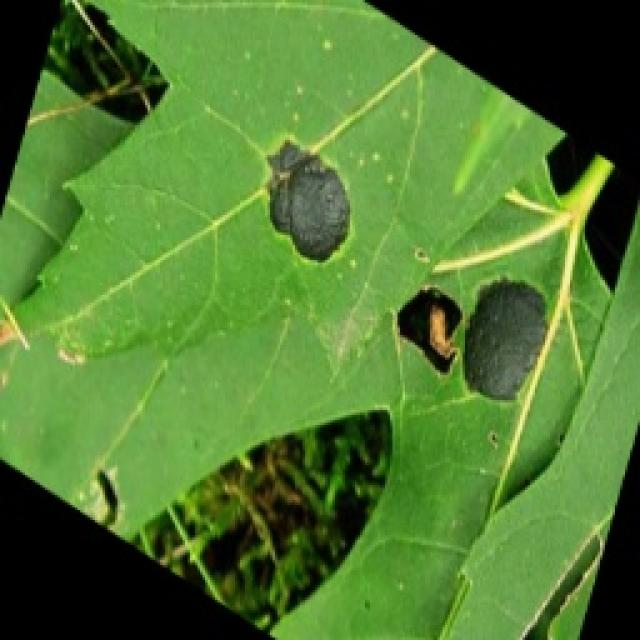Tar_Spot: (200, 66, 557, 417)
